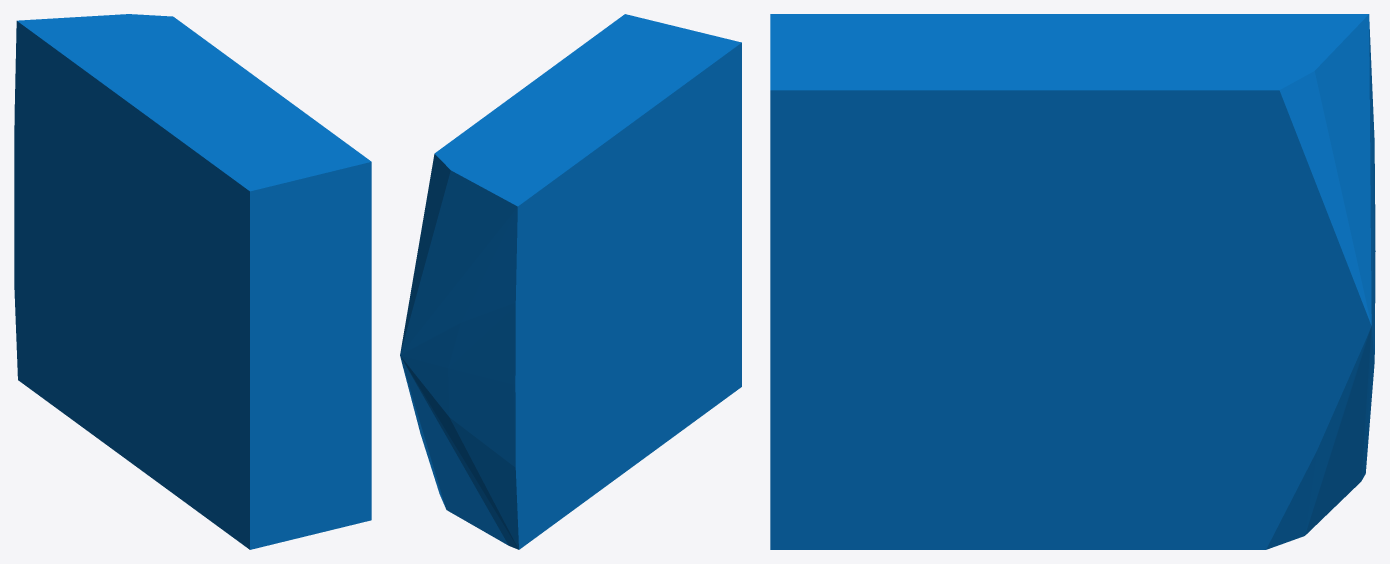
The picture shows the model from 3 angles, left to right: view 1: azimuth 30°, elevation 25°; view 2: azimuth 150°, elevation 25°; view 3: azimuth 270°, elevation 25°; orthographic projection. The views are drawn at different scales.
Size of the model in its own units: 1.14 by 3.21 by 3.83.
